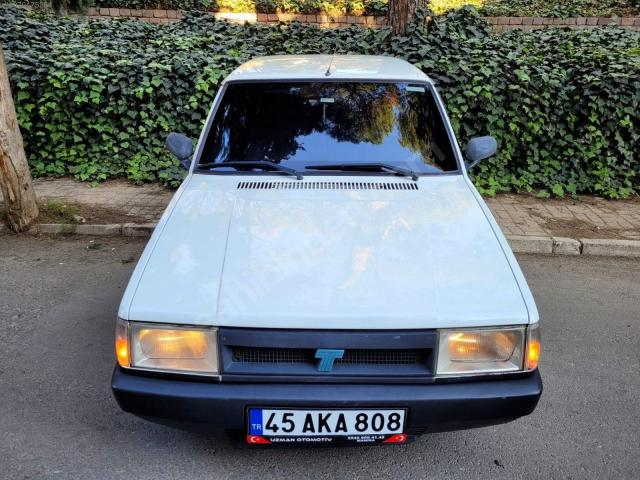plaka: (246, 408, 407, 441)
